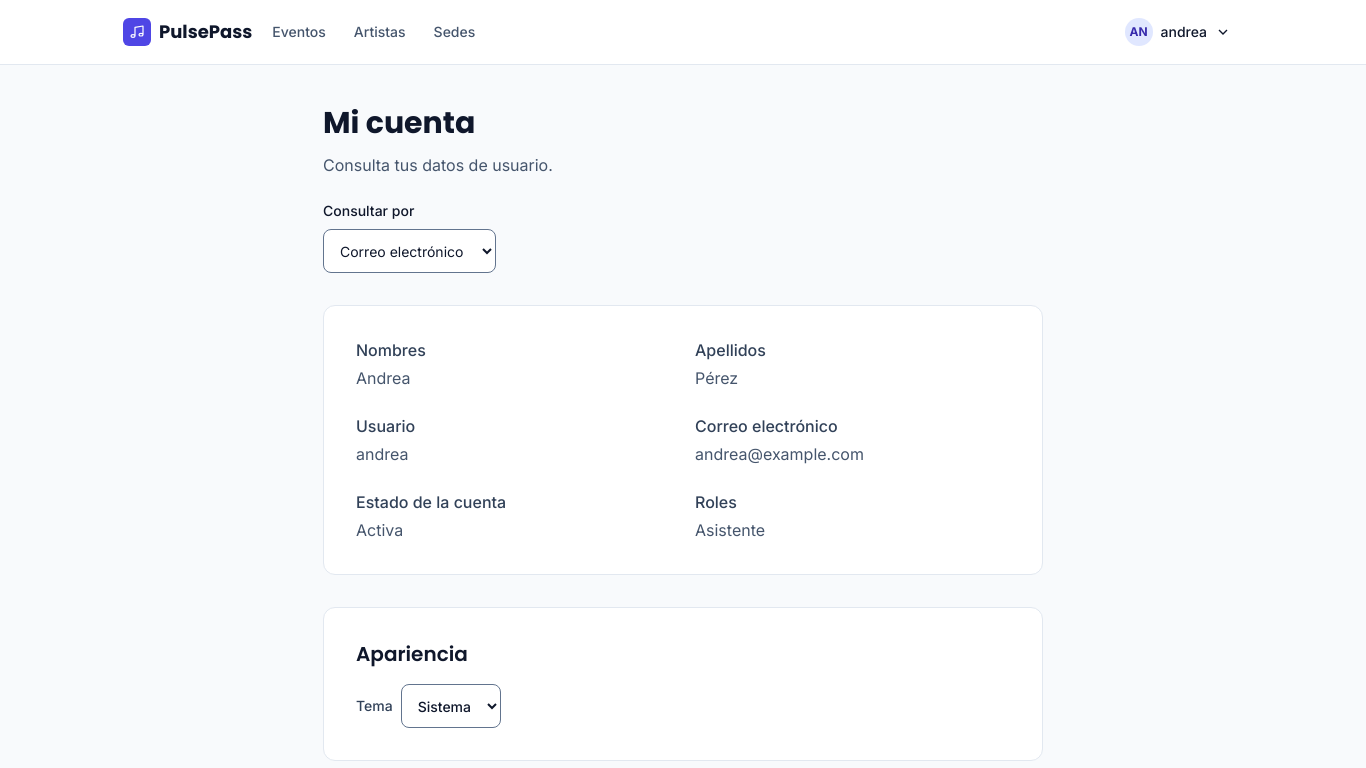
Mi cuenta › permite consultar por el nombre de la sesión con Bearer
The width and height of the screenshot is (1366, 768).
Expected: the text "Pérez" is shown, 695,368 -> 738,388
Select "Nombre de usuario" in the dropdown labelled "Consultar por". click: (410, 251)
box: 323,229 -> 496,273
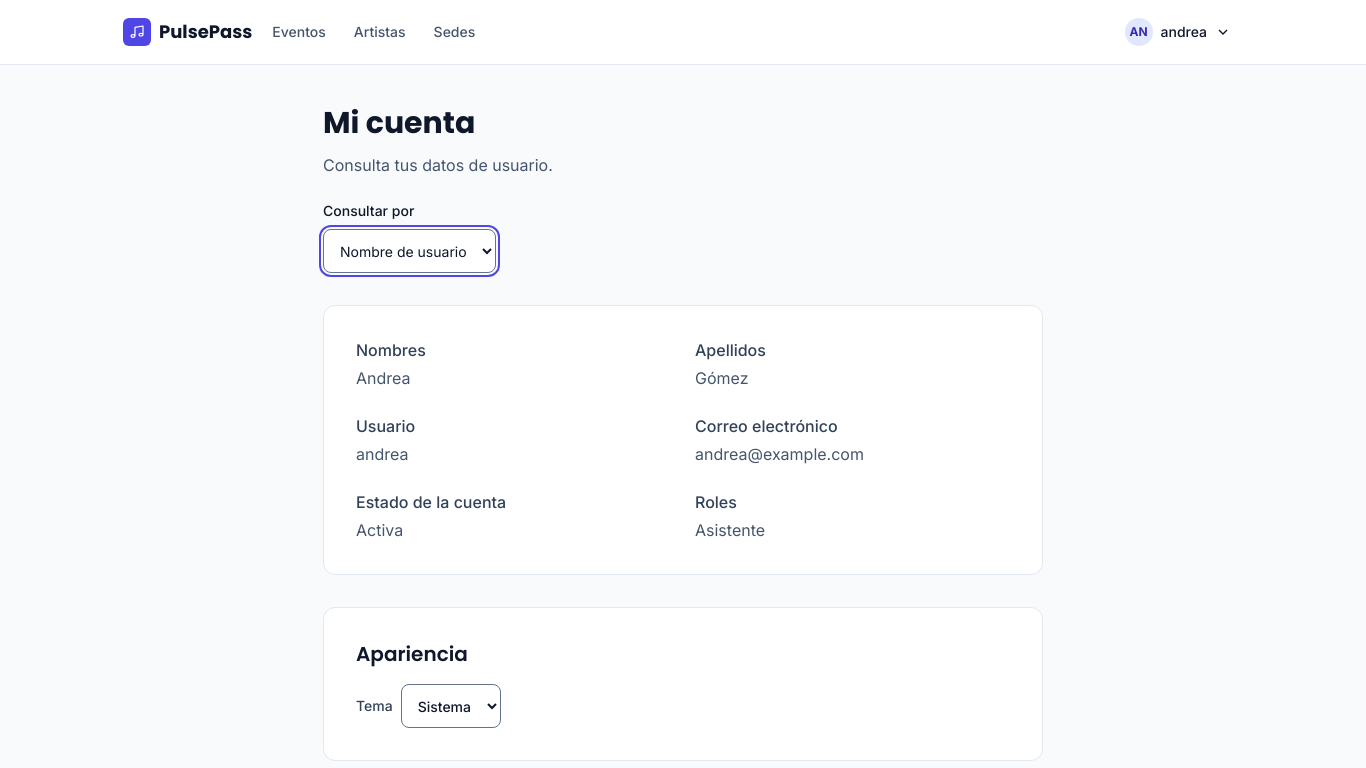
Expected: the text "andrea" in the row of "Sedes" is shown, 1160,23 -> 1207,40
Expected: the text "Gómez" is shown, 695,368 -> 748,388
